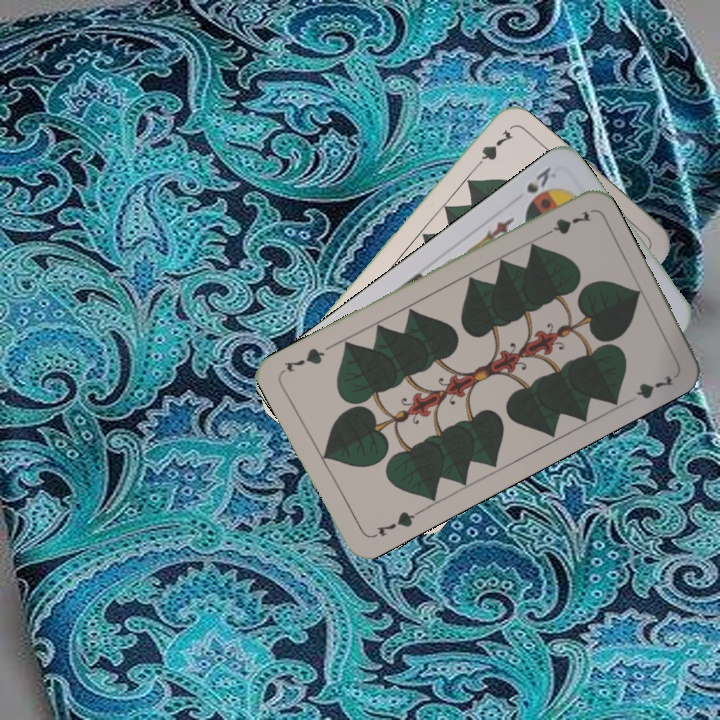G7: (467, 125, 515, 174), (536, 206, 593, 241), (367, 507, 422, 541)
SK: (522, 162, 559, 196)
